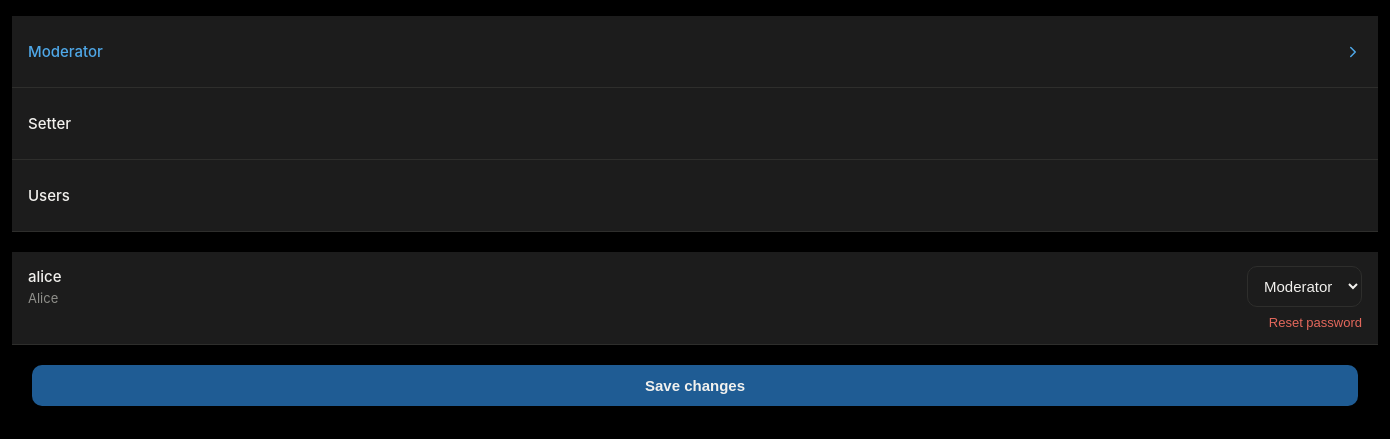
Test: ManageRolesScreen — reset password › resets a user's password and shows a success message
The width and height of the screenshot is (1390, 439).
Click the button "Reset password". click: (1315, 322)
box: top-left (1269, 315), bottom-right (1362, 330)
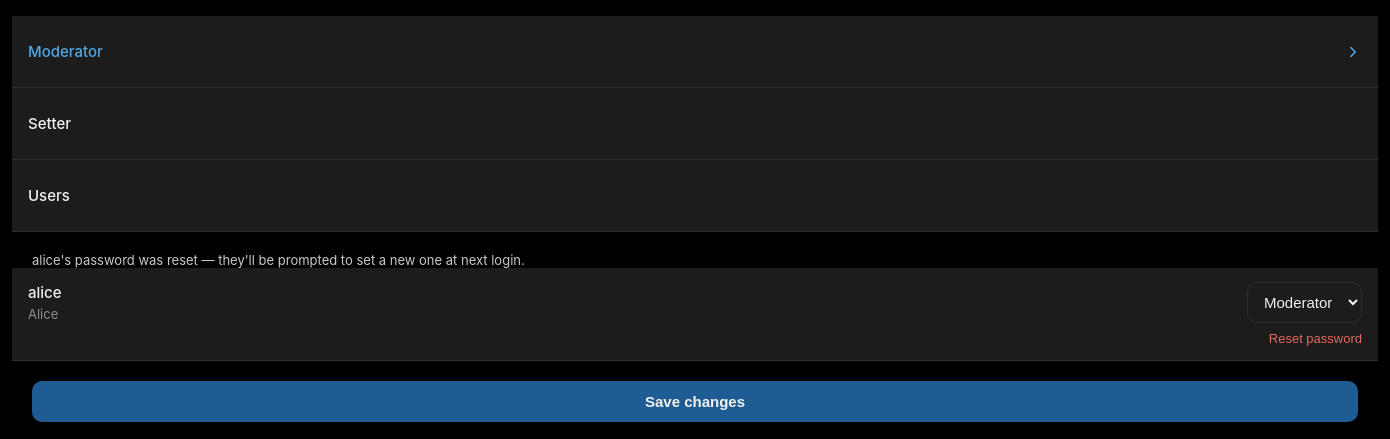
expect the message reads "alice's password was reset — they'll be prompted to set a new one at next login.": met, box top-left (32, 252), bottom-right (525, 268)
